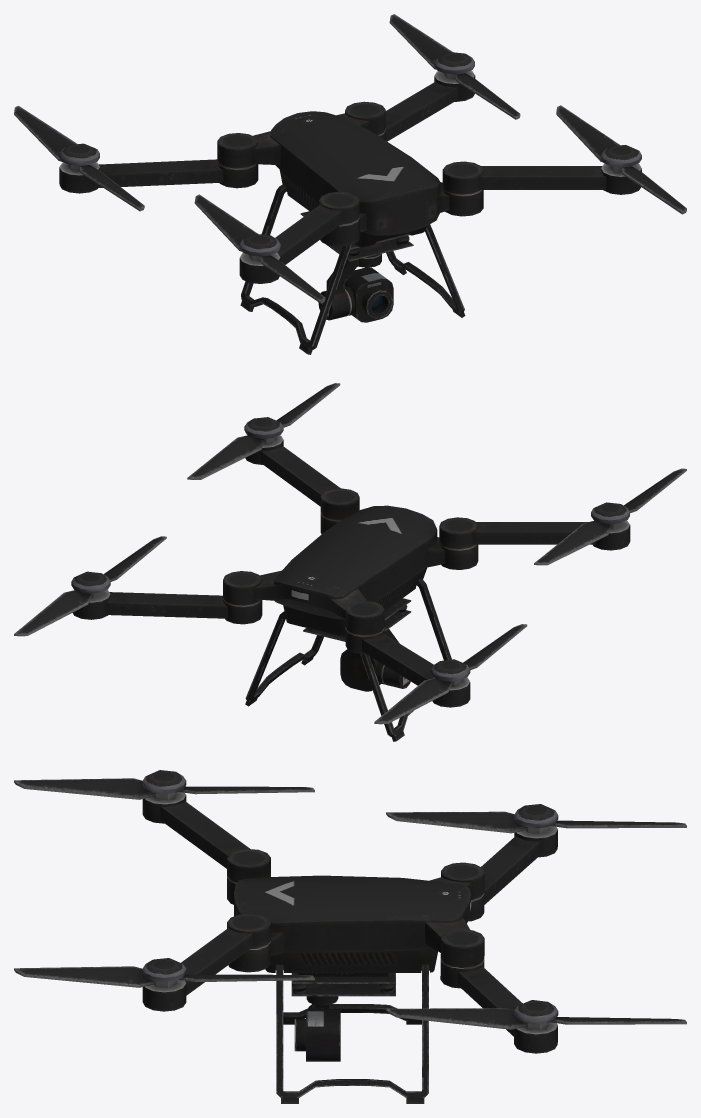
The model's file is uav-transformed.glb.
The picture shows the model from 3 angles, top to bottom: view 1: azimuth 30°, elevation 25°; view 2: azimuth 150°, elevation 25°; view 3: azimuth 270°, elevation 25°; orthographic projection. The views are drawn at different scales.
Parts seen in each view (by area): view 1: Object_2; view 2: Object_2; view 3: Object_2.
Part boxes in pixels (left/top/right/bottom): Object_2: left=14, top=14, right=686, bottom=354; Object_2: left=14, top=383, right=686, bottom=741; Object_2: left=14, top=770, right=686, bottom=1103.
Size of the model in its own units: 0.5289 by 0.2231 by 0.7014.
1 material, 1 textured.
